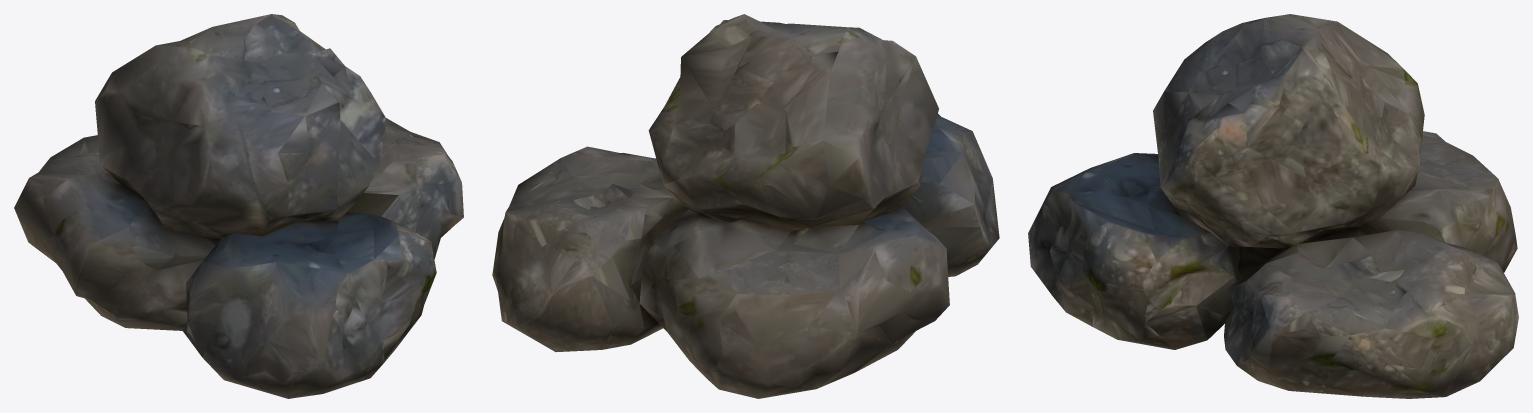
File: rock-temperate-river-stones.glb
The picture shows the model from 3 angles, left to right: view 1: azimuth 30°, elevation 25°; view 2: azimuth 150°, elevation 25°; view 3: azimuth 270°, elevation 25°; orthographic projection. The views are drawn at different scales.
Visible parts, largest first — view 1: tripo_node_cac5c18a-fa00-4e80-806b-dd2510628056; view 2: tripo_node_cac5c18a-fa00-4e80-806b-dd2510628056; view 3: tripo_node_cac5c18a-fa00-4e80-806b-dd2510628056.
Boxes of the visible parts, <box> form: tripo_node_cac5c18a-fa00-4e80-806b-dd2510628056: <box>14,14,463,398</box>; tripo_node_cac5c18a-fa00-4e80-806b-dd2510628056: <box>492,14,999,398</box>; tripo_node_cac5c18a-fa00-4e80-806b-dd2510628056: <box>1028,14,1518,398</box>.
Bounding box in the file's own units: 0.807 × 0.55 × 0.8809.
Materials: 1 (1 with a texture image).
